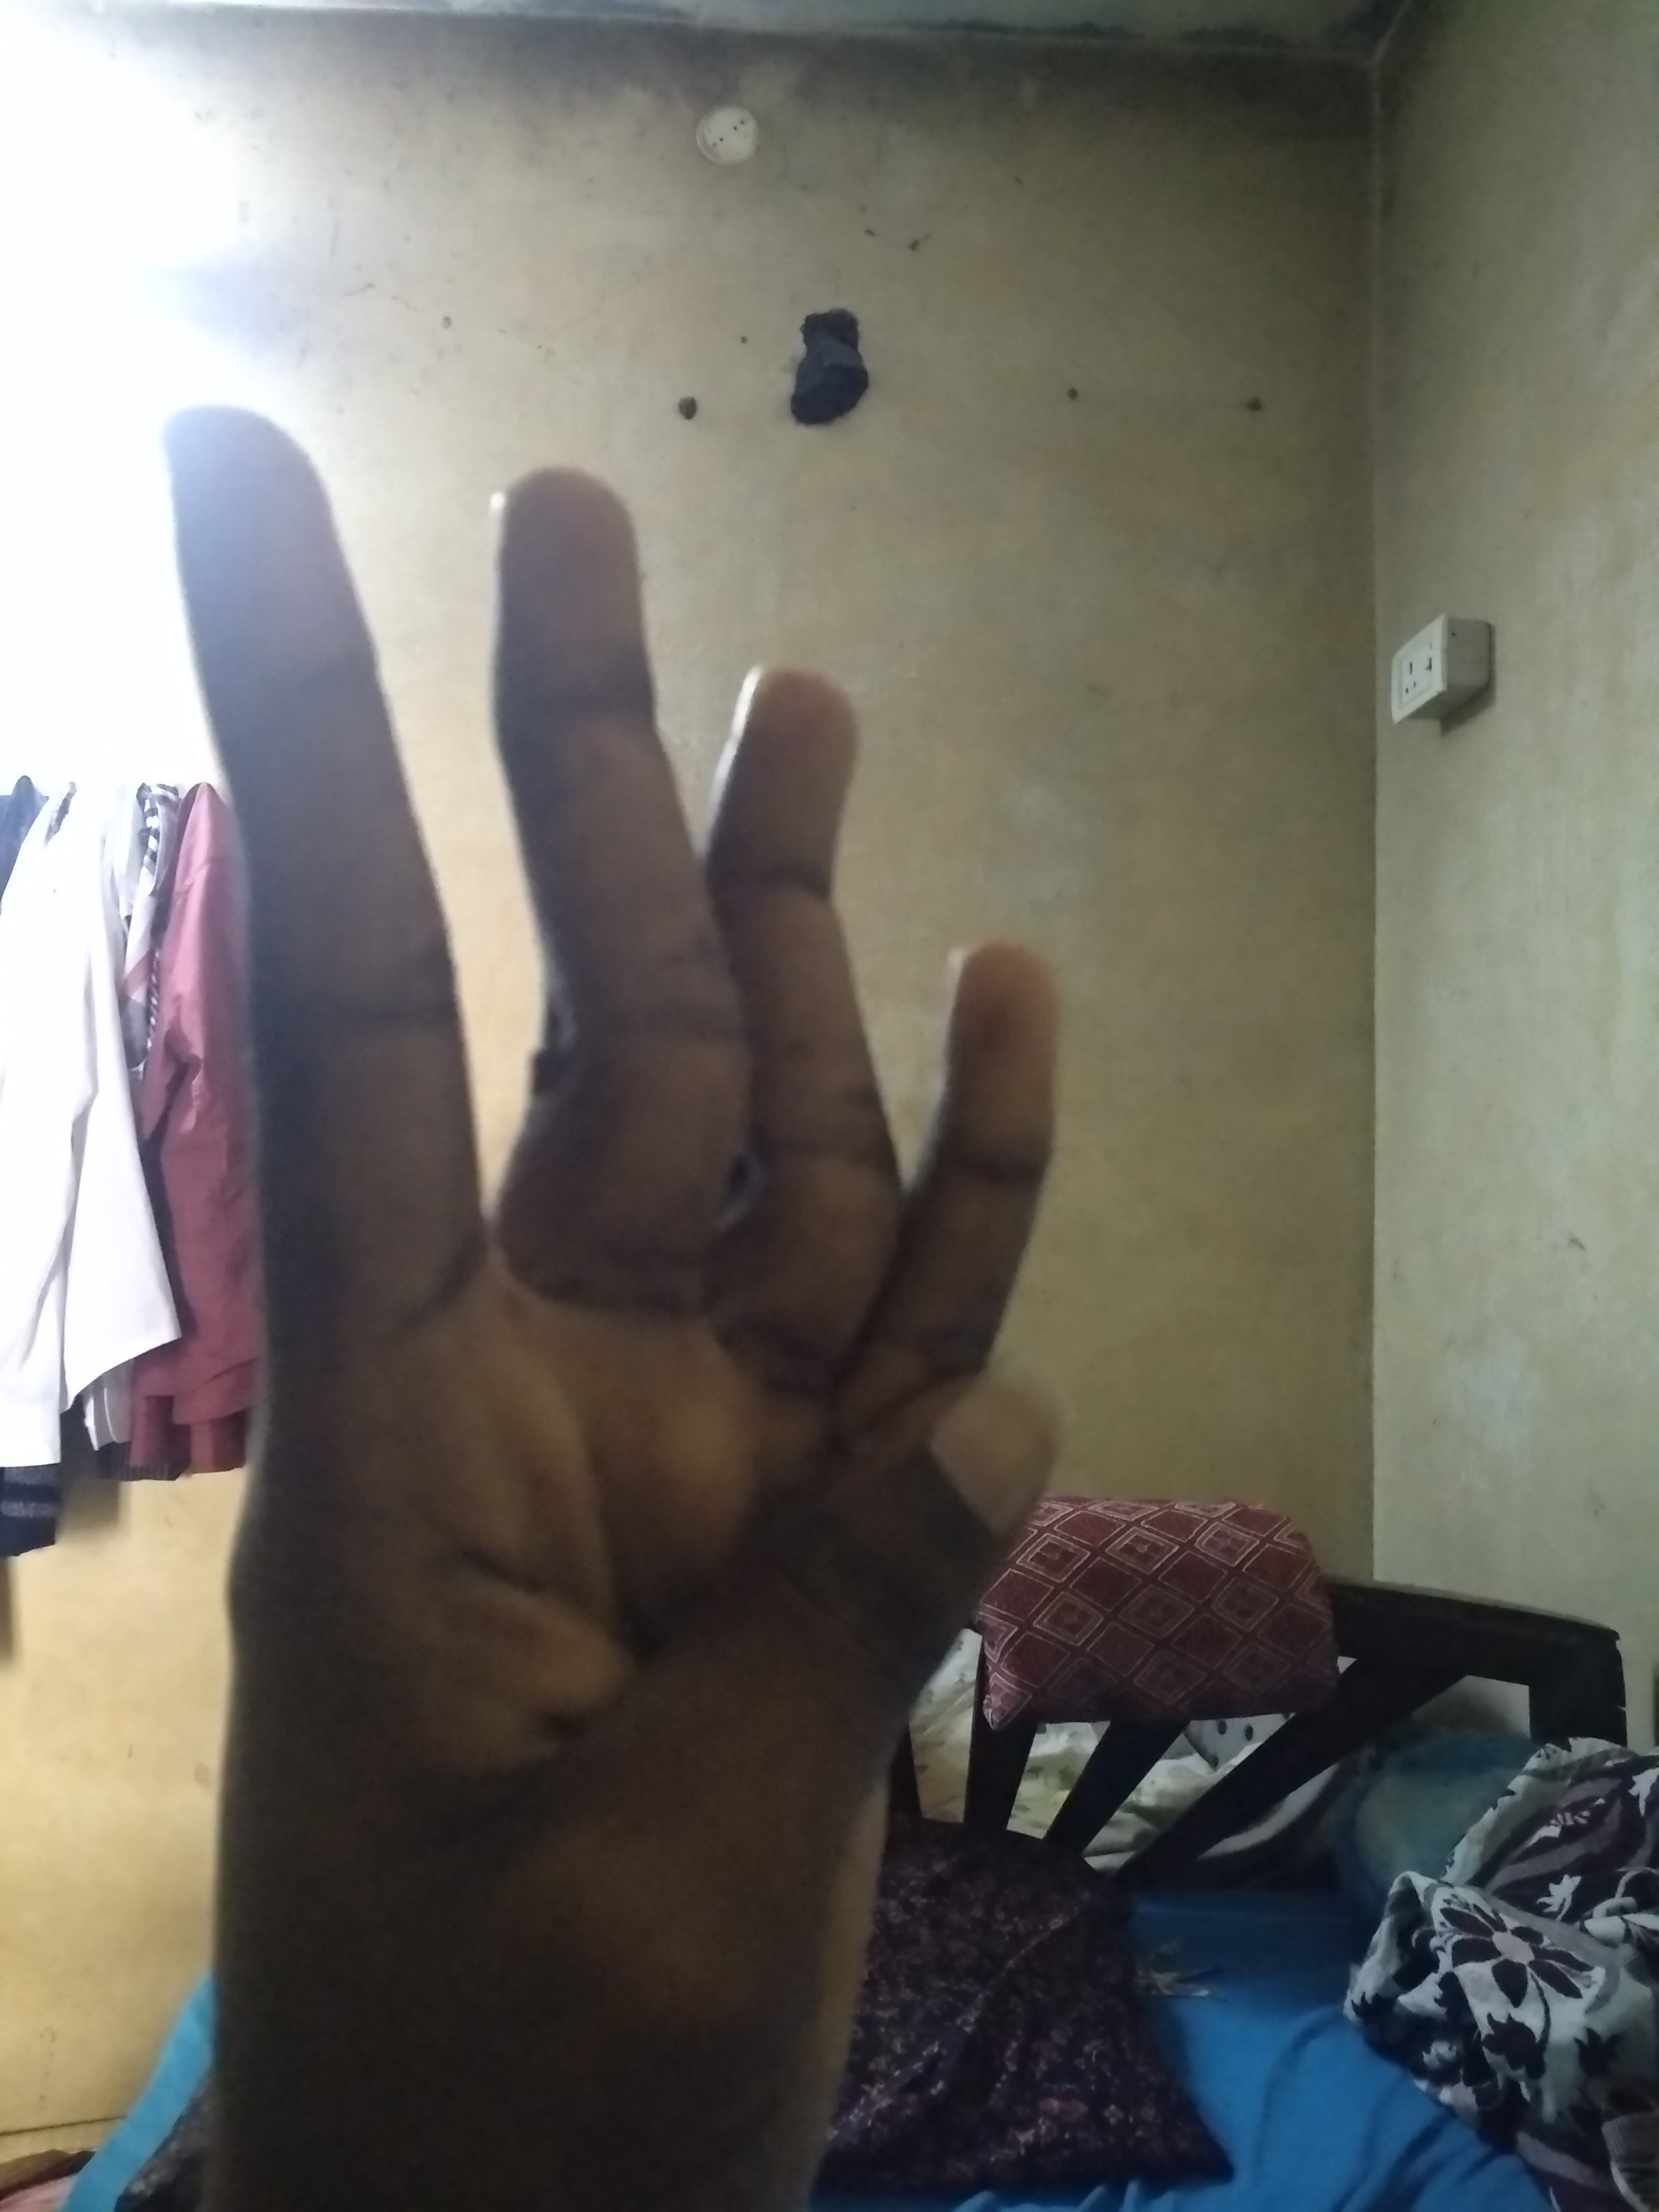four: (160, 362, 896, 1176)
